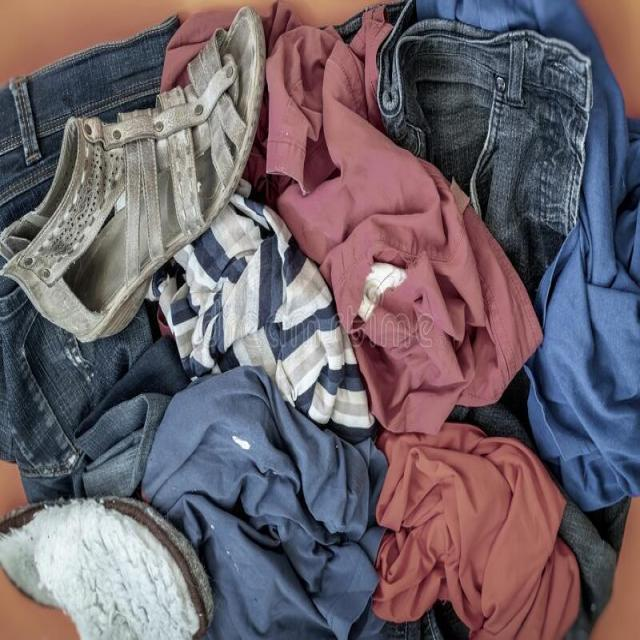clothes: (16, 83, 609, 513)
